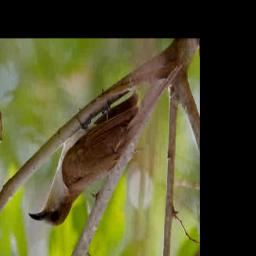Cuckoo: (26, 89, 139, 227)
